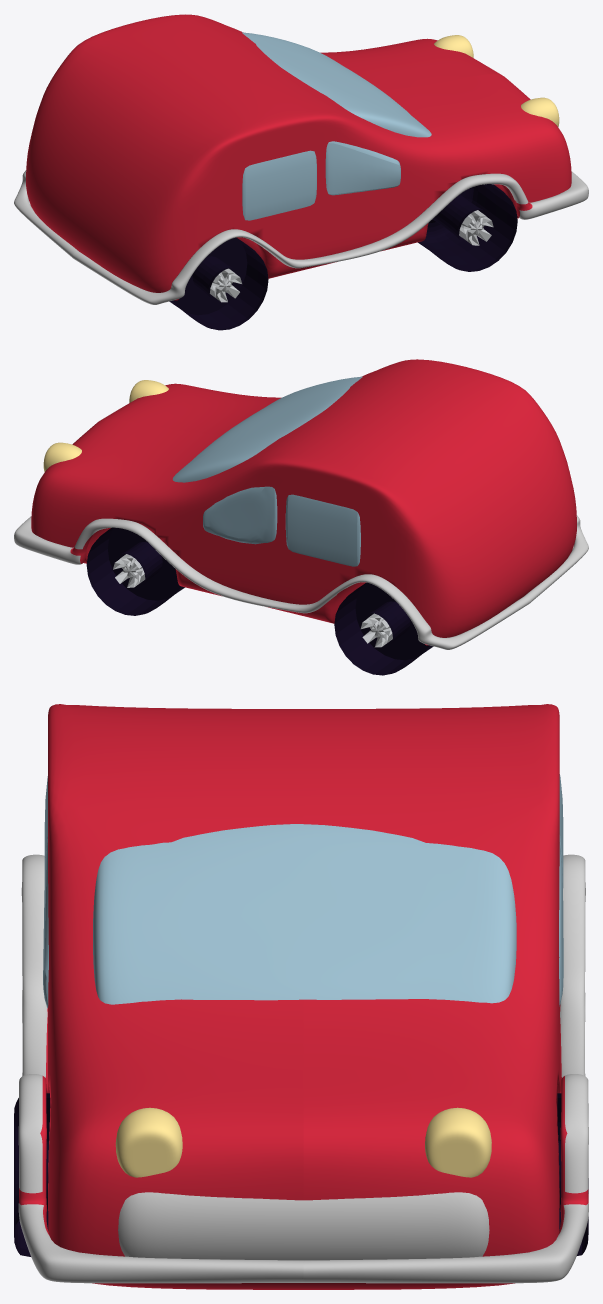
File: voiture3.fbx
3 views of the same model, one above another, from view 1: azimuth 30°, elevation 25°; view 2: azimuth 150°, elevation 25°; view 3: azimuth 270°, elevation 25° (orthographic). The views are drawn at different scales.
Visible parts, largest first — view 1: carrrosserie, RoueAvantDroite, RouesArrieres; view 2: carrrosserie, RoueAvantGauche, RouesArrieres; view 3: carrrosserie, RoueAvantDroite.
Boxes of the visible parts, x1,y1,x2,y2 form: carrrosserie: (14,14,588,304); RoueAvantDroite: (418,184,517,271); RouesArrieres: (169,237,268,330); carrrosserie: (14,359,588,649); RoueAvantGauche: (86,527,184,615); RouesArrieres: (334,582,433,675); carrrosserie: (18,704,588,1289); RoueAvantDroite: (14,1093,50,1256).
Bounding box in the file's own units: 560 × 225 × 342.
